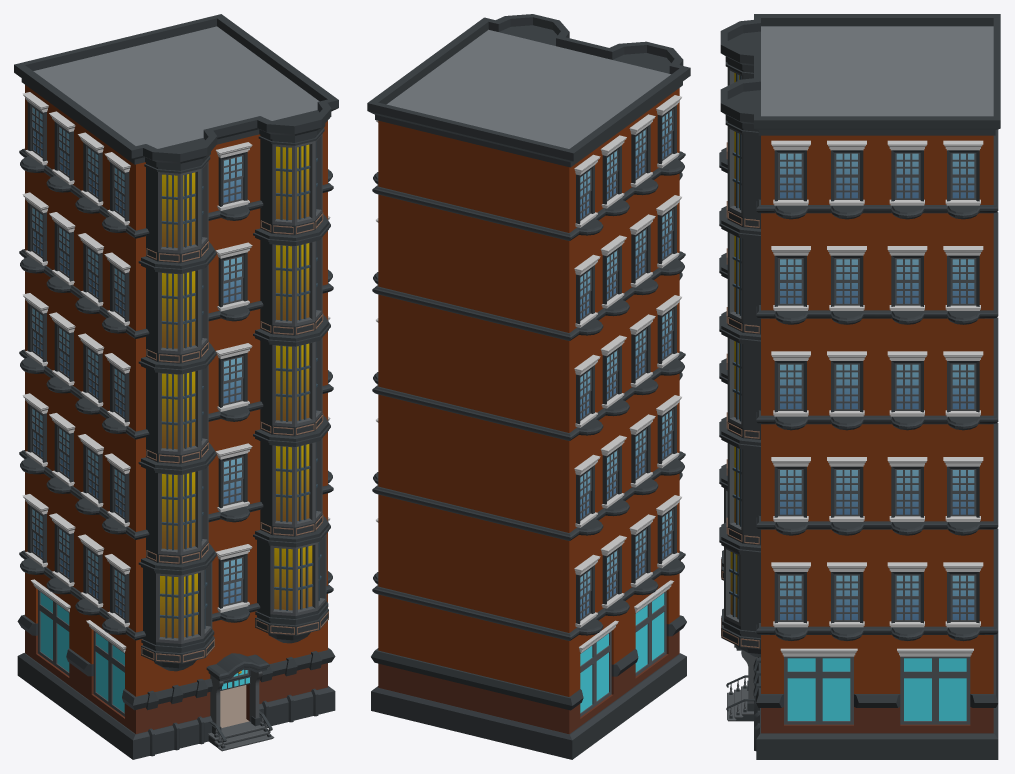
The model's file is SM_Buildings_House_07_V1.fbx.
3 views of the same model, side by side, from view 1: azimuth 30°, elevation 25°; view 2: azimuth 150°, elevation 25°; view 3: azimuth 270°, elevation 25° (orthographic). The views are drawn at different scales.
Parts seen in each view (by area): view 1: SM_Buildings_House_07_V1; view 2: SM_Buildings_House_07_V1; view 3: SM_Buildings_House_07_V1.
Boxes of the visible parts, x1=… form: SM_Buildings_House_07_V1: x1=14, y1=14, x2=338, y2=759; SM_Buildings_House_07_V1: x1=367, y1=14, x2=690, y2=759; SM_Buildings_House_07_V1: x1=719, y1=14, x2=1000, y2=759.
Size of the model in its own units: 11.82 by 30.4 by 12.08.
